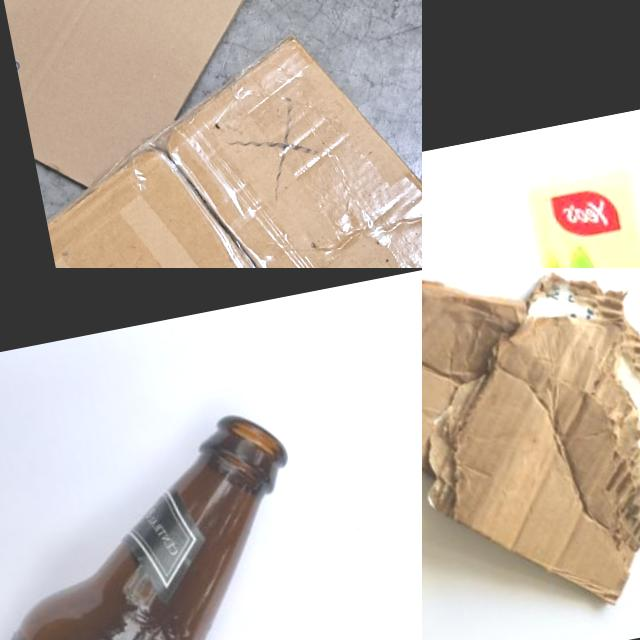caixinha: (520, 148, 640, 268)
garrafa de vidro: (0, 399, 352, 640)
papelão: (23, 2, 422, 268), (0, 0, 422, 195), (422, 268, 640, 640)
